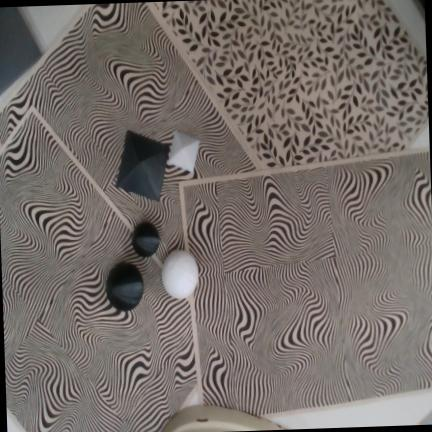Esfera: (106, 262, 144, 311), (162, 250, 199, 298), (132, 222, 160, 257)
Piramide: (116, 130, 170, 202), (169, 130, 200, 172)
